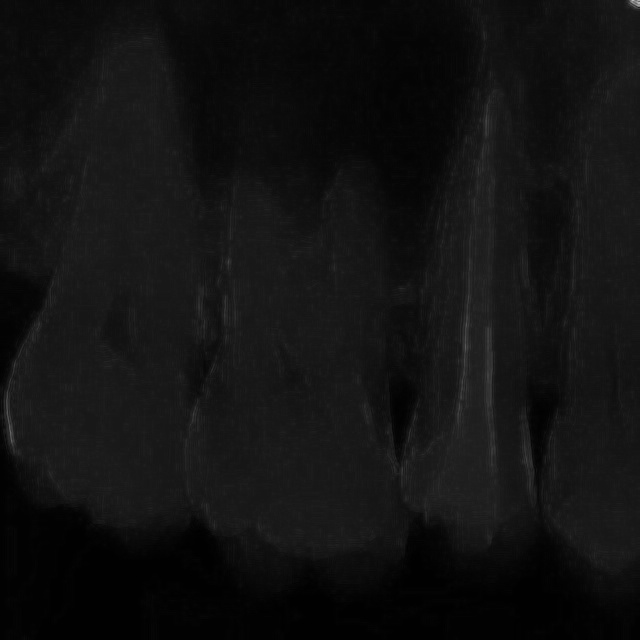Class 0- No endodontic treatment: (396, 39, 597, 572)
cavity: (20, 24, 249, 571)
